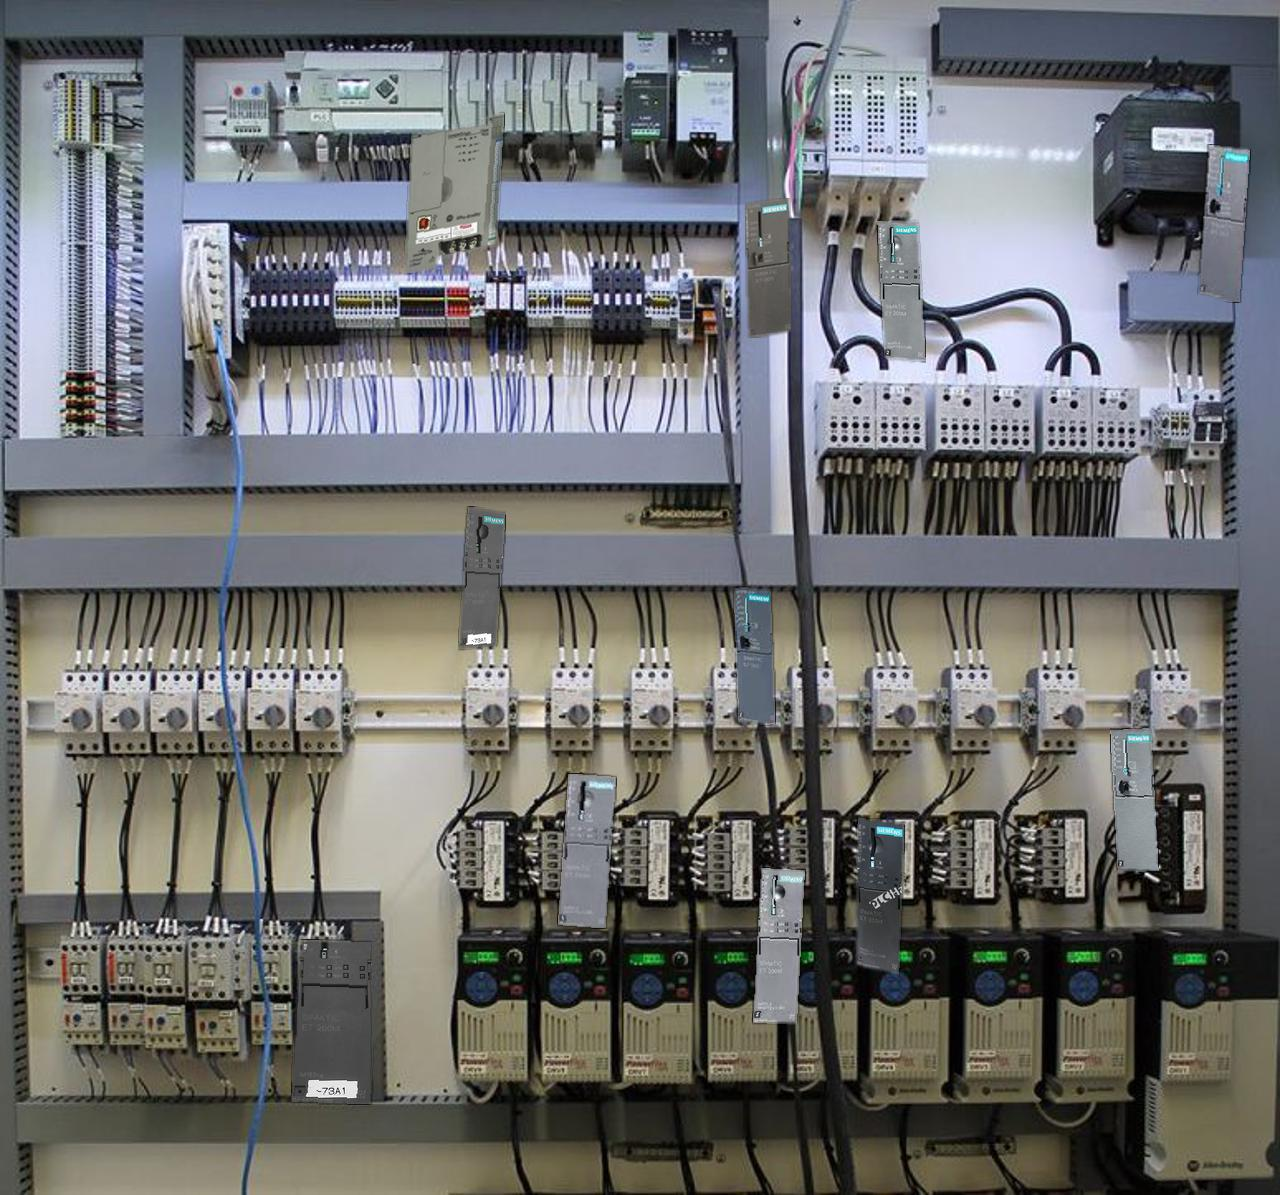AllenBradley: (406, 113, 503, 272)
Siemens: (1199, 145, 1249, 301), (1110, 729, 1158, 870), (746, 198, 790, 337), (734, 589, 774, 724)
